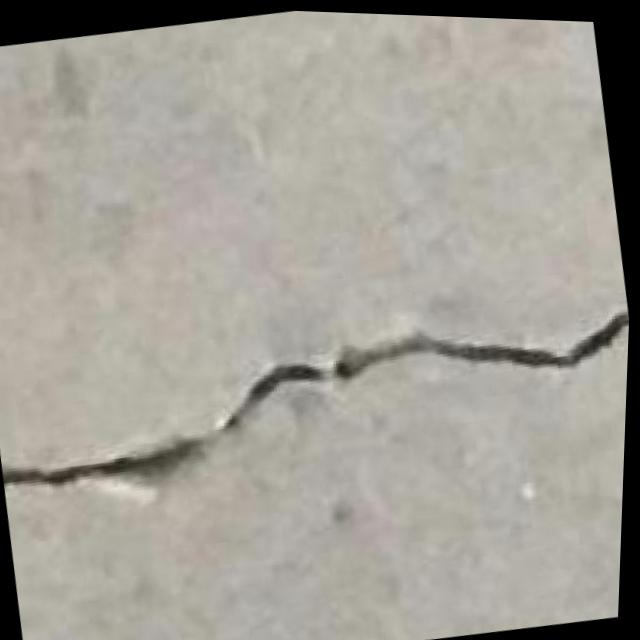Crack: (0, 279, 632, 534)
